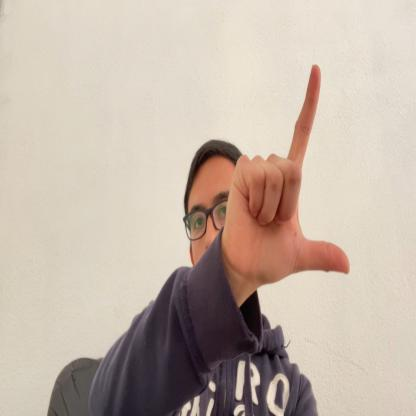L: (226, 62, 350, 286)
